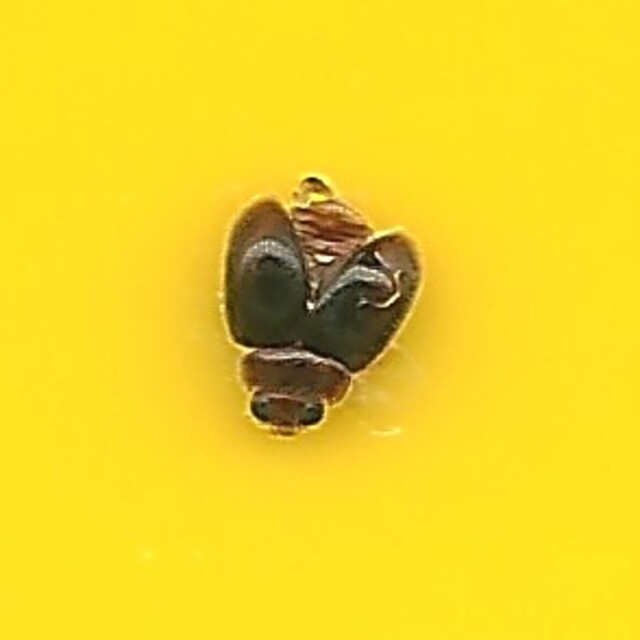Coleoptera: (218, 197, 422, 443)
